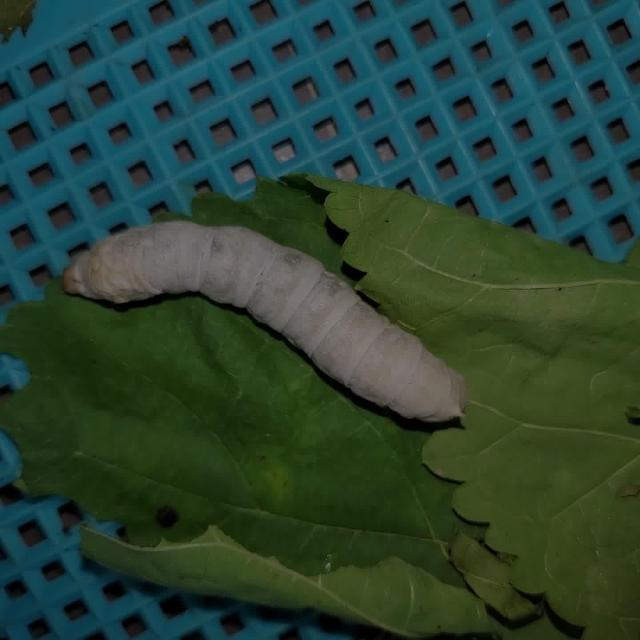Grasserie: (40, 186, 500, 480)
